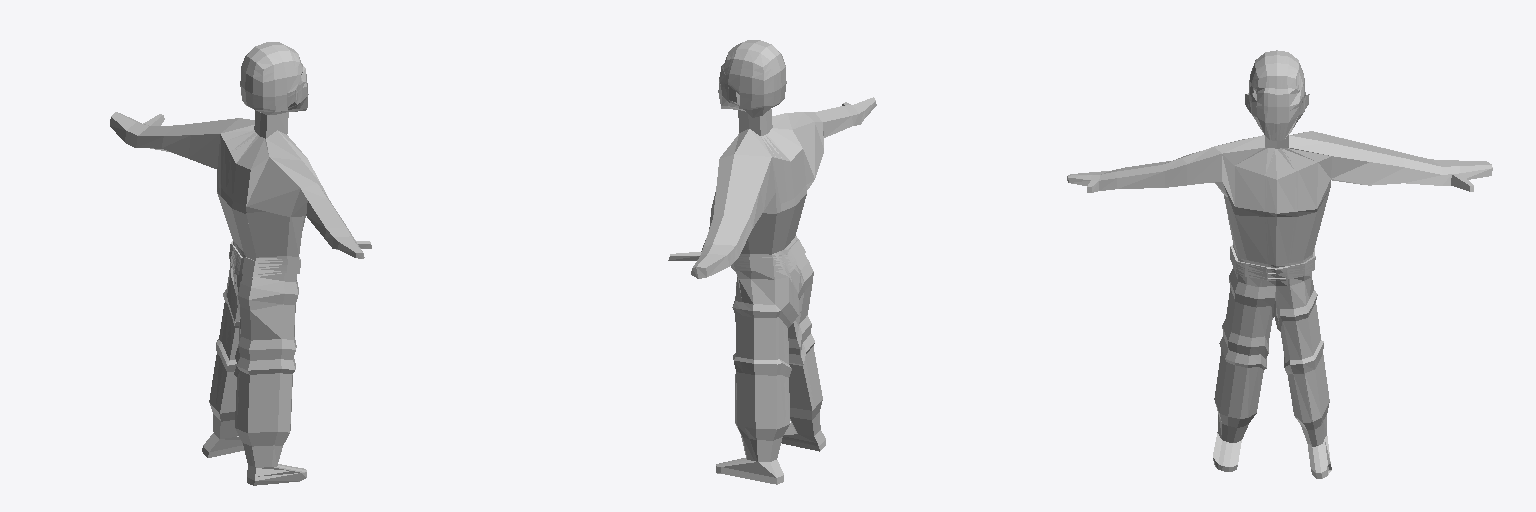
Rendered from person.obj.
3 renders of one model, left to right at view 1: azimuth 30°, elevation 25°; view 2: azimuth 150°, elevation 25°; view 3: azimuth 270°, elevation 25°, orthographic.
Visible parts, largest first — view 1: Cube; view 2: Cube; view 3: Cube.
Boxes of the visible parts, <box> form: Cube: <box>110,42,371,485</box>; Cube: <box>668,40,876,484</box>; Cube: <box>1067,50,1492,478</box>.
Bounding box in the file's own units: 2.37 × 10.17 × 9.42.